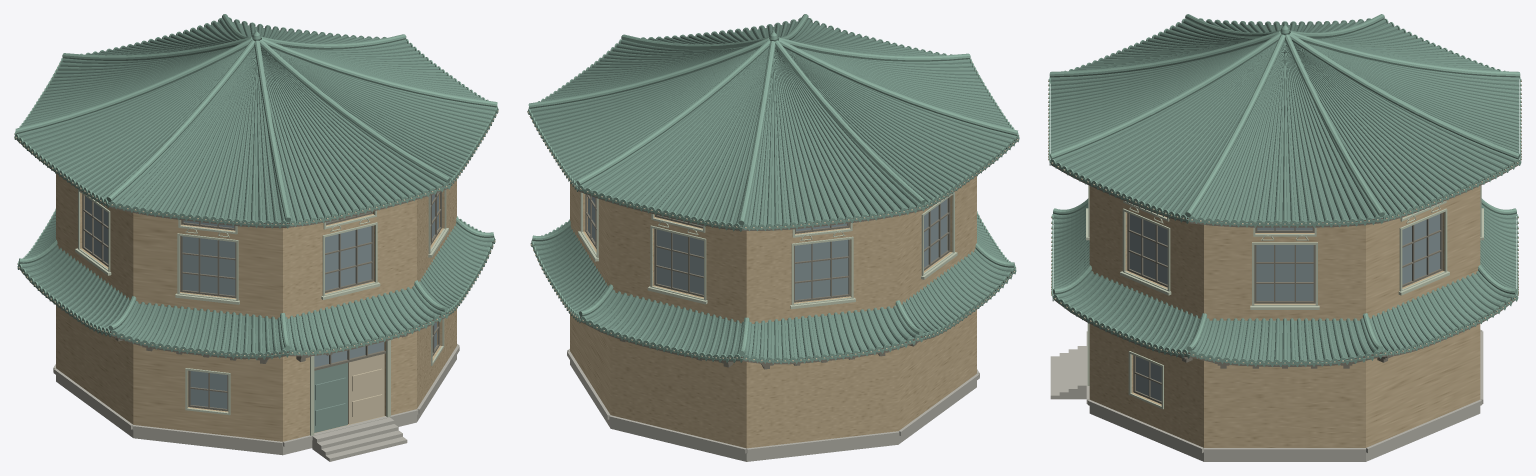
Rendered from jingan-xiaojiaojing-octagonal-library-web.glb.
The picture shows the model from 3 angles, left to right: view 1: azimuth 30°, elevation 25°; view 2: azimuth 150°, elevation 25°; view 3: azimuth 270°, elevation 25°; orthographic projection. The views are drawn at different scales.
Visible parts, largest first — view 1: 小校经阁八角藏书楼; view 2: 小校经阁八角藏书楼; view 3: 小校经阁八角藏书楼.
Part boxes in pixels (box(x1,y1,x2,y2)): 小校经阁八角藏书楼: box(14, 14, 498, 461); 小校经阁八角藏书楼: box(527, 14, 1019, 461); 小校经阁八角藏书楼: box(1048, 14, 1521, 461).
Size of the model in its own units: 13.79 by 11.42 by 13.79.
Materials: 11 (1 with a texture image).
